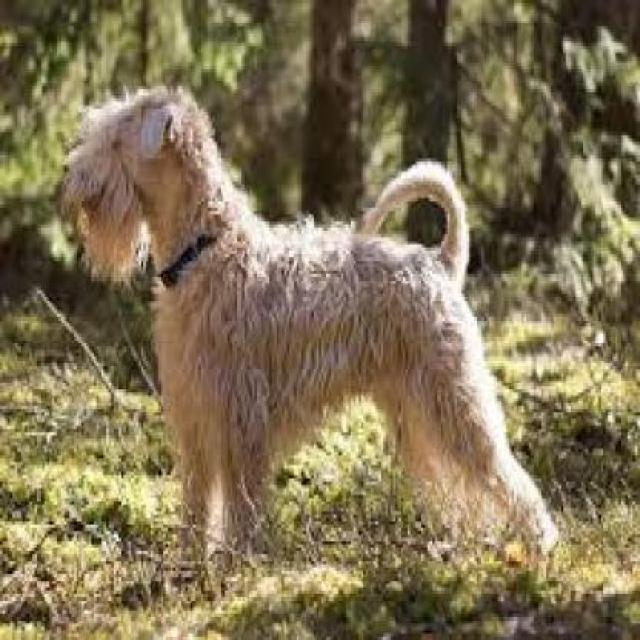animals: (20, 57, 640, 640)
